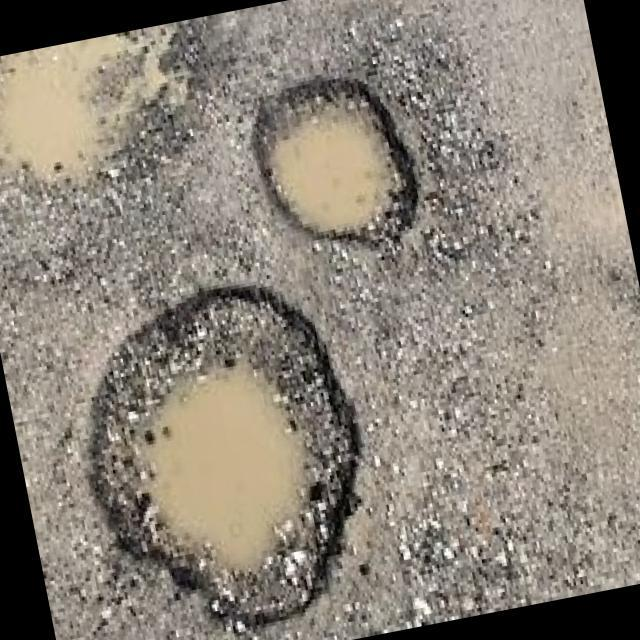Pothole: (53, 271, 384, 640), (0, 22, 231, 240), (244, 51, 436, 269)
